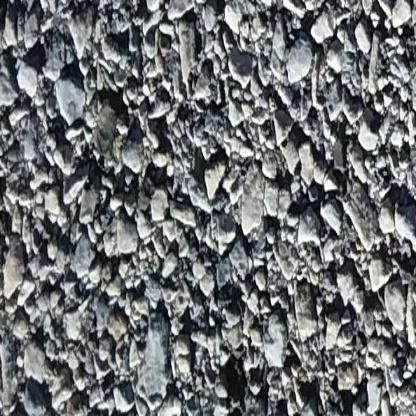Cracks: (0, 0, 60, 28)
